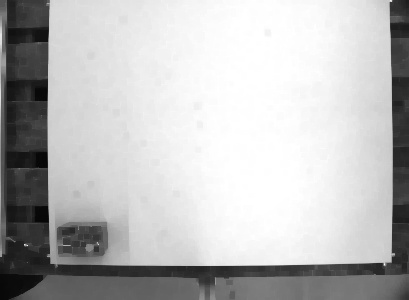kltxs: (53, 219, 112, 258)
